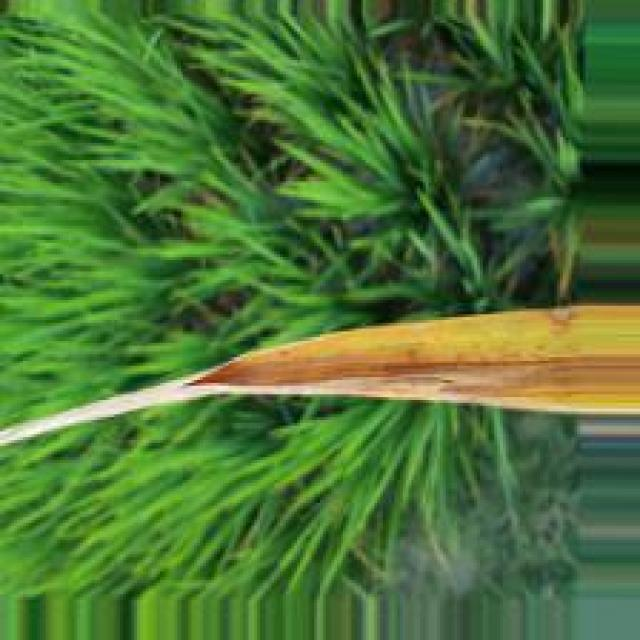Bacterial_Leaf_Blight: (189, 306, 640, 416)
